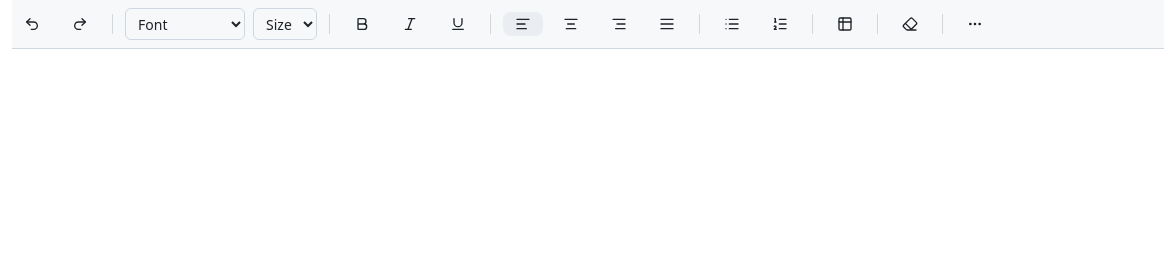
Test: grid picker 1-10×1-10: mở → click ô → insertTable với header row → đóng
Click the button with test id "word-tb-table": (845, 24) [825, 12, 865, 36]
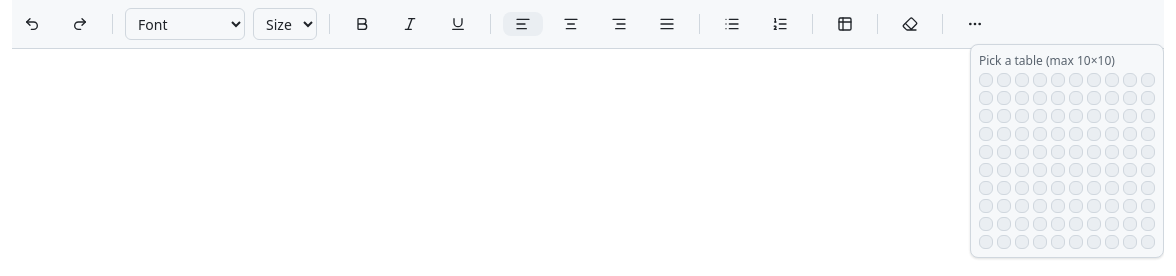
Click the button with test id "word-tb-table-2x3": (1022, 98) [1015, 91, 1029, 105]
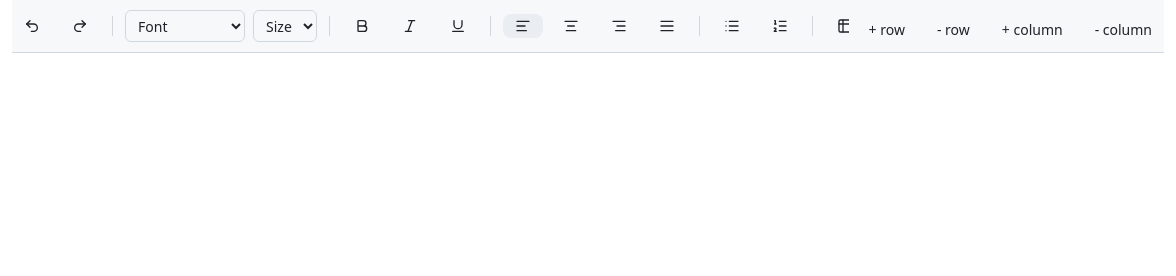
Check: the element with test id "word-tb-table-grid" is gone
